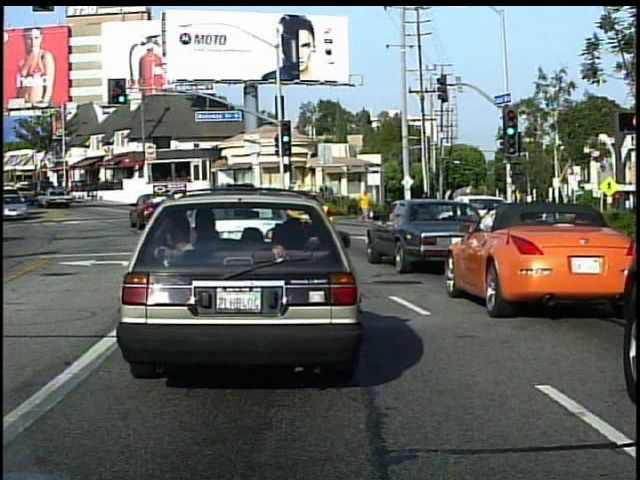person: (420, 186, 443, 233), (356, 185, 375, 225)
